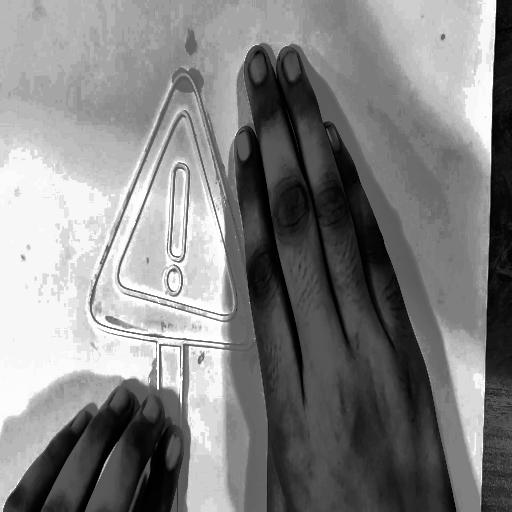signboard: (81, 63, 269, 512)
